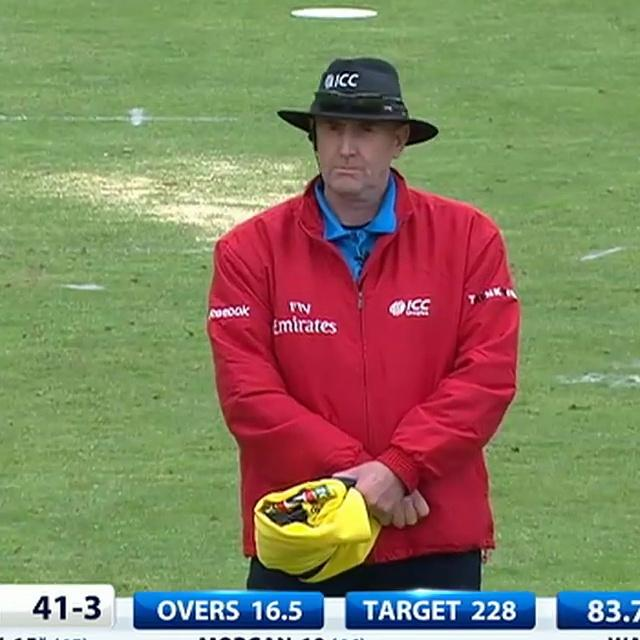umpire: (183, 33, 550, 590)
